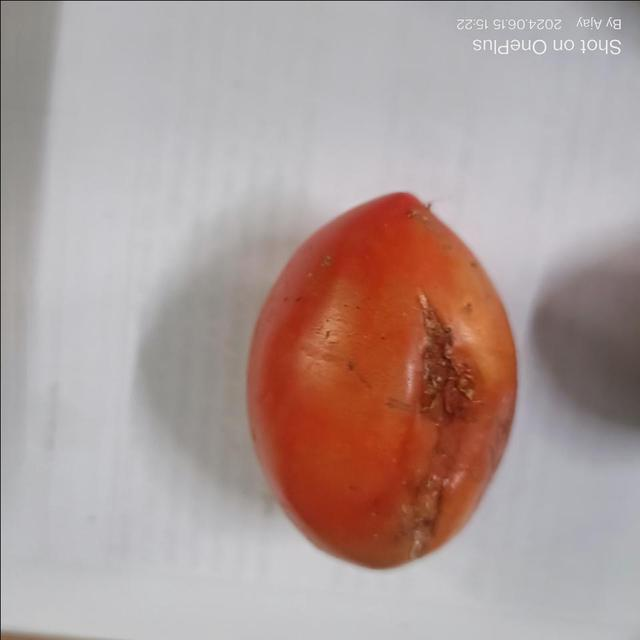Cracking Fruit: (142, 183, 457, 463)
